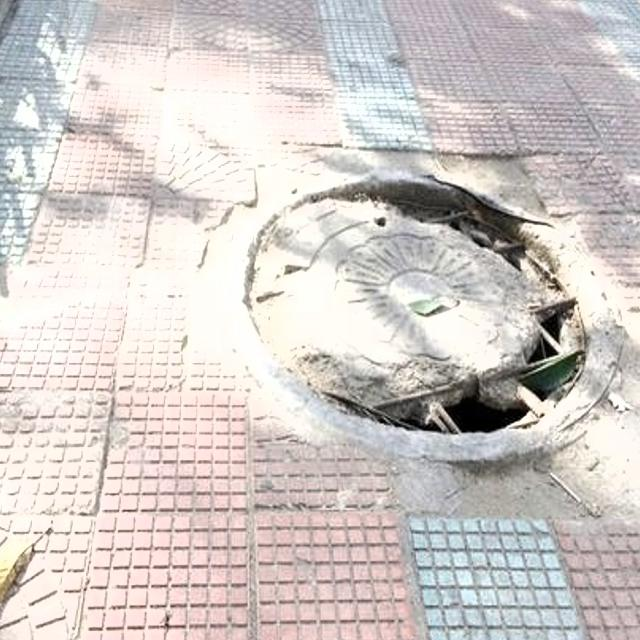broke: (209, 158, 621, 460)
